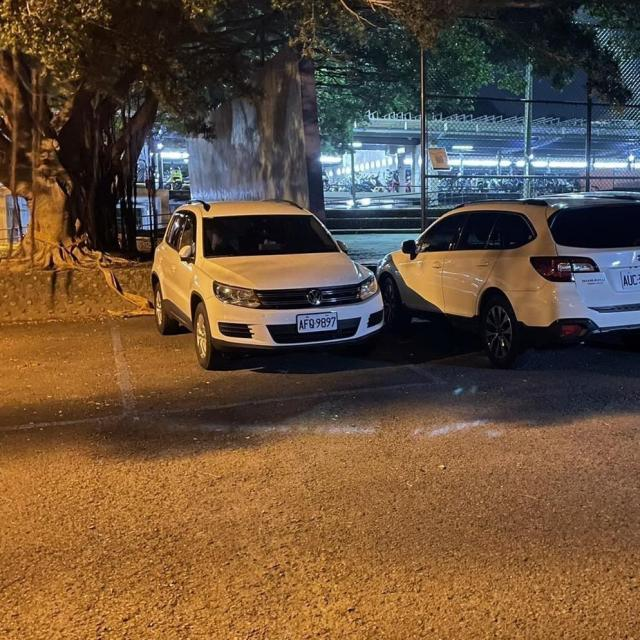W: (292, 308, 342, 335), (615, 261, 640, 291)
